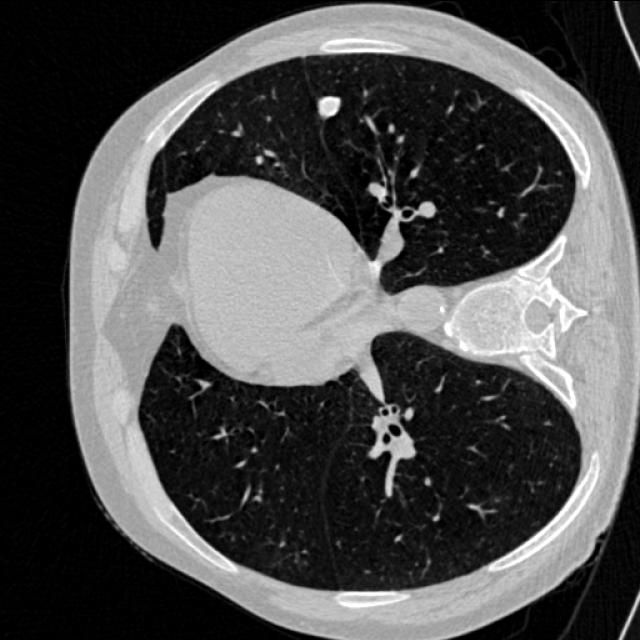nodule: (306, 84, 352, 128)
